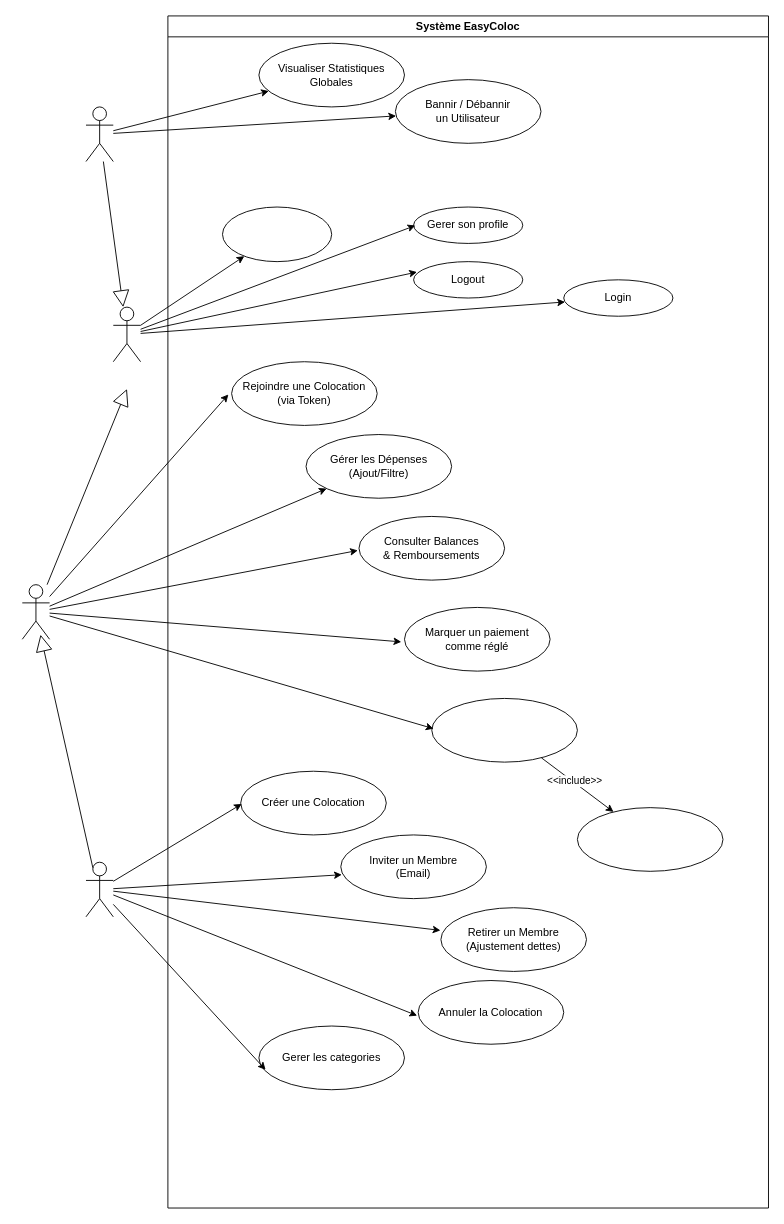
Some shapes in this 784 by 1224 pixel diagram are drawn without their labels. Each missing label, with the centre of its shape:
"Ajuster La Réputation (-1/+1)" goes at (x=649, y=839).
"Global Admin" goes at (x=99, y=134).
"member" goes at (x=35, y=611).
"Owner" goes at (x=99, y=889).
"Quitter la Colocation" goes at (x=504, y=730).
"Register (1er inscrit va etre admin)" goes at (x=277, y=234).
"User" goes at (x=126, y=334).
